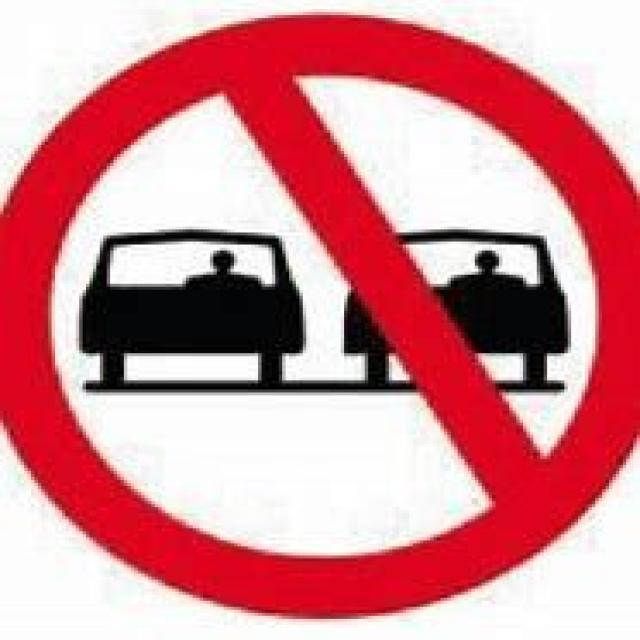overtaking prohibited: (25, 23, 619, 612)
